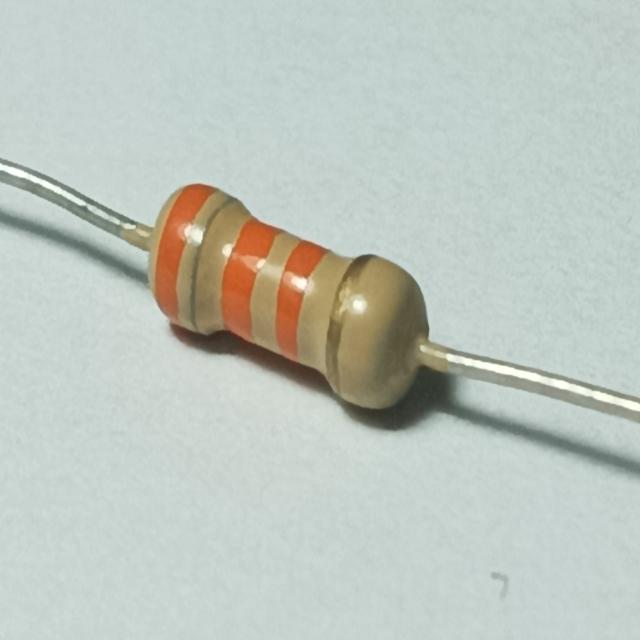33k ohms: (136, 167, 438, 425)
